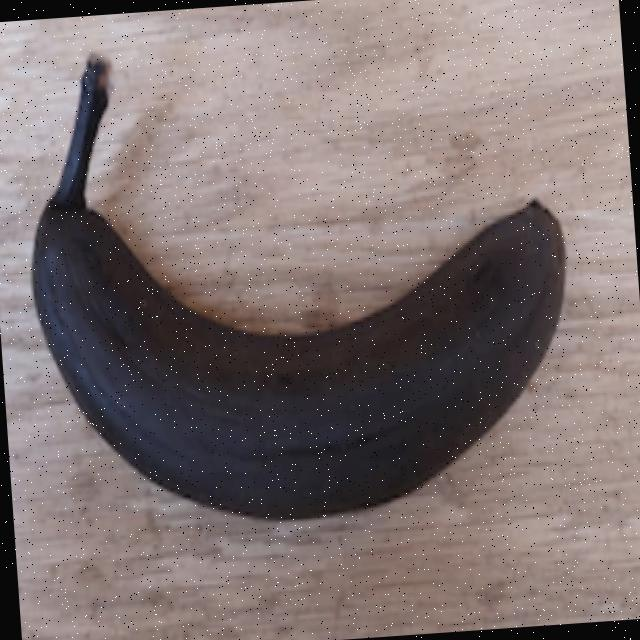Rotten: (0, 13, 607, 564)
